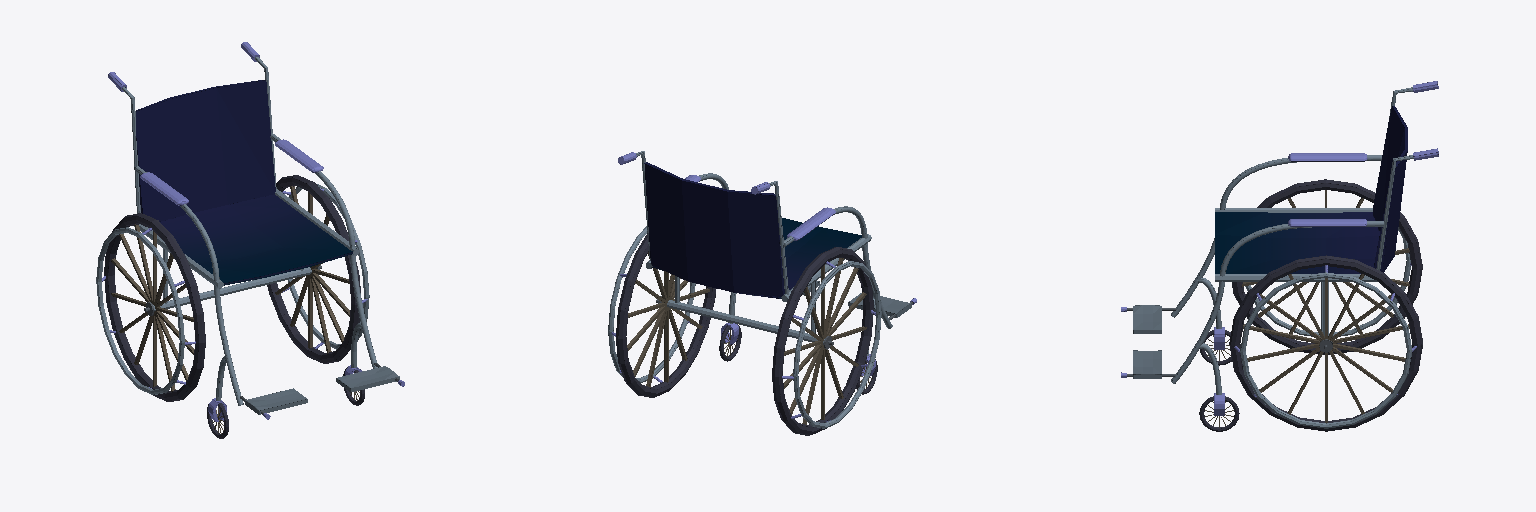
3 views of the same model, side by side, from view 1: azimuth 30°, elevation 25°; view 2: azimuth 150°, elevation 25°; view 3: azimuth 270°, elevation 25° (orthographic).
Bounding box in the file's own units: 149 × 215 × 217.
1 materials, 1 textured.